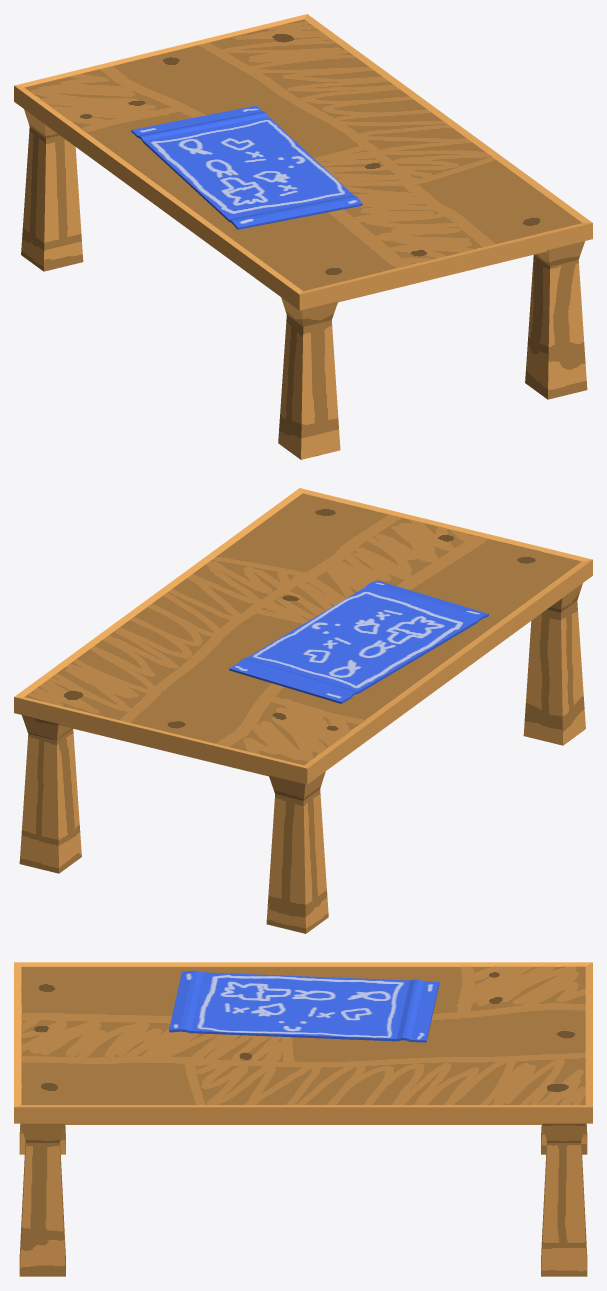
Rendered from workbench.fbx.
3 views of the same model, one above another, from view 1: azimuth 30°, elevation 25°; view 2: azimuth 150°, elevation 25°; view 3: azimuth 270°, elevation 25° (orthographic).
Visible parts, largest first — view 1: Cube, Cube.003; view 2: Cube, Cube.003; view 3: Cube, Cube.003.
Part boxes in pixels (x1,y1,x2,y2): Cube: [14, 14, 592, 459]; Cube.003: [131, 105, 362, 229]; Cube: [14, 488, 592, 933]; Cube.003: [229, 580, 488, 703]; Cube: [14, 962, 592, 1276]; Cube.003: [169, 970, 439, 1042].
Bounding box in the file's own units: 332 × 185 × 559.
2 materials, 2 textured.
